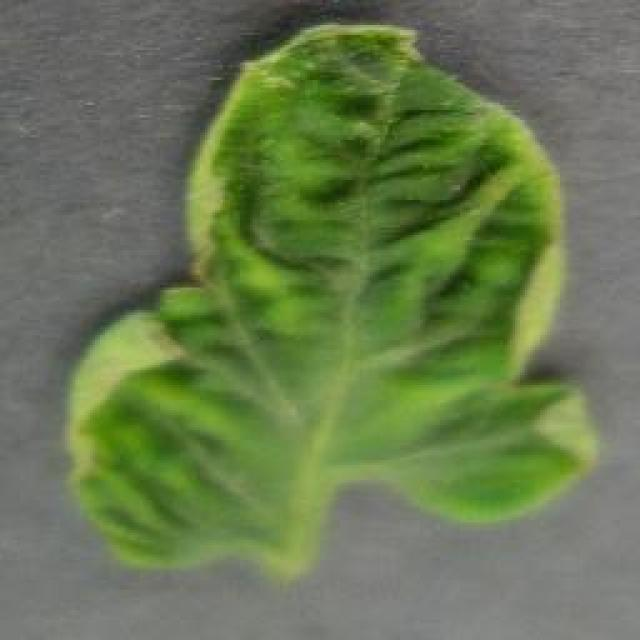Tomato yellow virus leaf: (69, 20, 602, 580)
